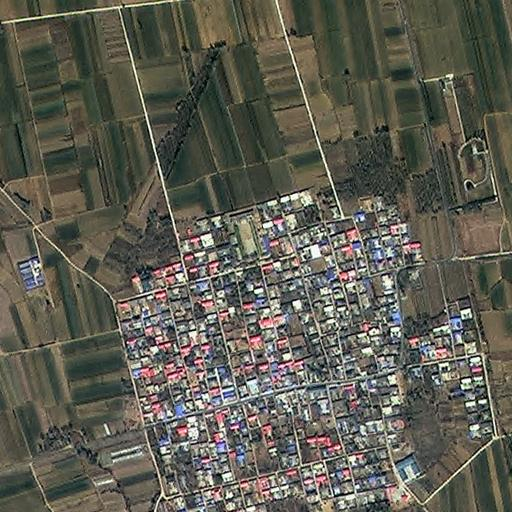school: (227, 205, 263, 266)
